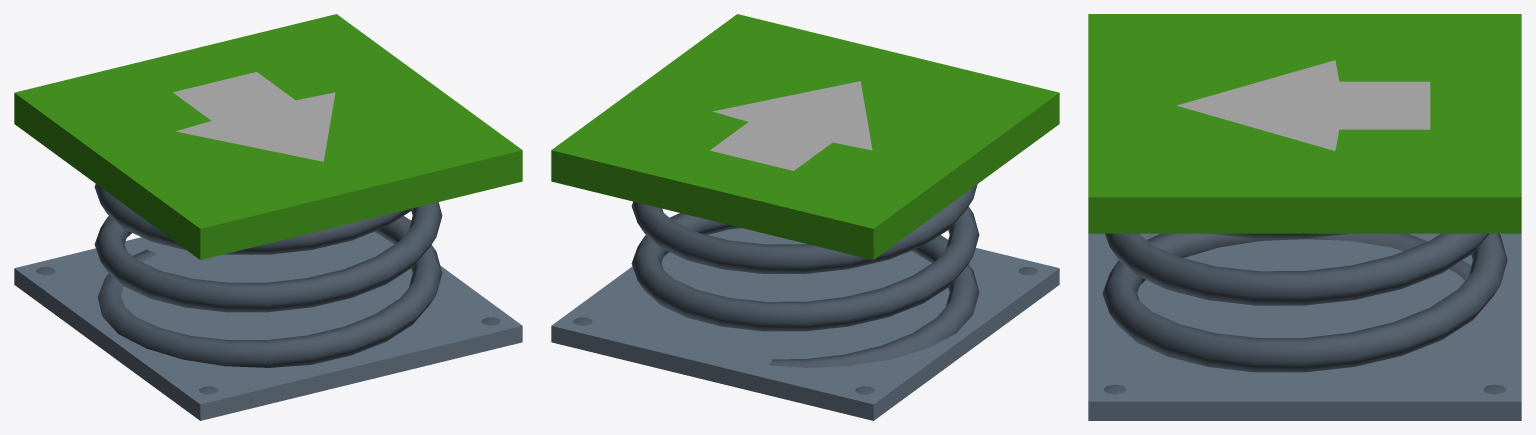
File: Jumper_Model.fbx
3 renders of one model, left to right at view 1: azimuth 30°, elevation 25°; view 2: azimuth 150°, elevation 25°; view 3: azimuth 270°, elevation 25°, orthographic. The views are drawn at different scales.
Visible parts, largest first — view 1: Jumper_Model; view 2: Jumper_Model; view 3: Jumper_Model.
Part boxes in pixels (x1=…): Jumper_Model: x1=14, y1=14, x2=522, y2=420; Jumper_Model: x1=551, y1=14, x2=1059, y2=420; Jumper_Model: x1=1088, y1=14, x2=1521, y2=420.
Bounding box in the file's own units: 161 × 91.38 × 161.
